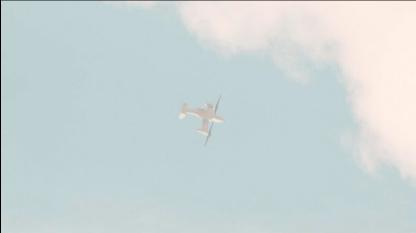Tornado: (176, 94, 224, 147)
